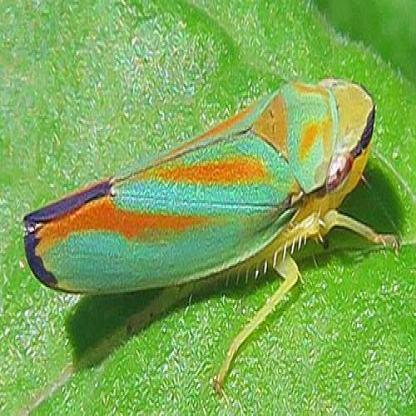green-leafhopper: (24, 75, 404, 391)
